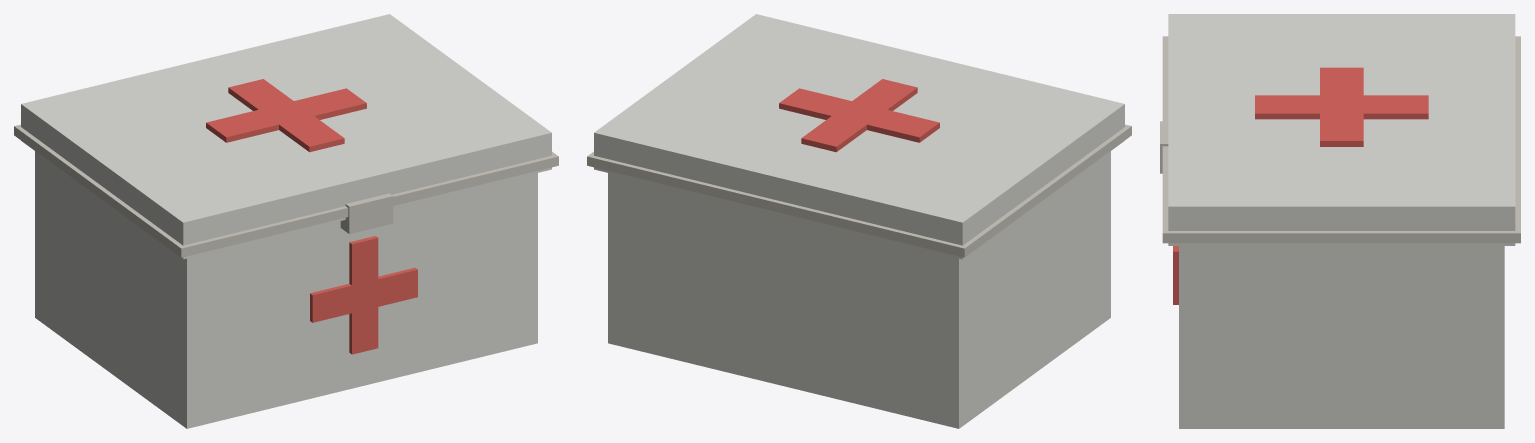
The model's file is MedBoxPickup.fbx.
3 views of the same model, side by side, from view 1: azimuth 30°, elevation 25°; view 2: azimuth 150°, elevation 25°; view 3: azimuth 270°, elevation 25° (orthographic). The views are drawn at different scales.
Parts seen in each view (by area): view 1: MedBox, MedBox.001, Edge_0.2, FrontCrossV, Clasp; view 2: MedBox, MedBox.001, Edge_0.2; view 3: MedBox.001, MedBox, Edge_0.2.
Boxes of the visible parts, bbox=[...] form: MedBox: bbox=[35, 151, 537, 428]; MedBox.001: bbox=[14, 14, 558, 354]; Edge_0.2: bbox=[14, 29, 558, 257]; FrontCrossV: bbox=[310, 236, 417, 354]; Clasp: bbox=[341, 193, 393, 229]; MedBox: bbox=[608, 151, 1110, 428]; MedBox.001: bbox=[594, 14, 1124, 251]; Edge_0.2: bbox=[587, 79, 1131, 259]; MedBox.001: bbox=[1162, 14, 1520, 304]; MedBox: bbox=[1179, 246, 1504, 428]; Edge_0.2: bbox=[1162, 36, 1520, 245].
Bounding box in the file's own units: 21.5 × 11.84 × 16.62.
